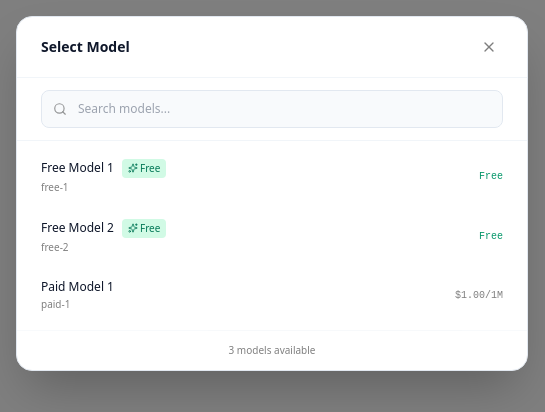
Test: ModelSelectorModal › should filter models based on search query
Type "Paid" into the field with placeholder "Search models..." at (272, 108), box [41, 90, 503, 128]
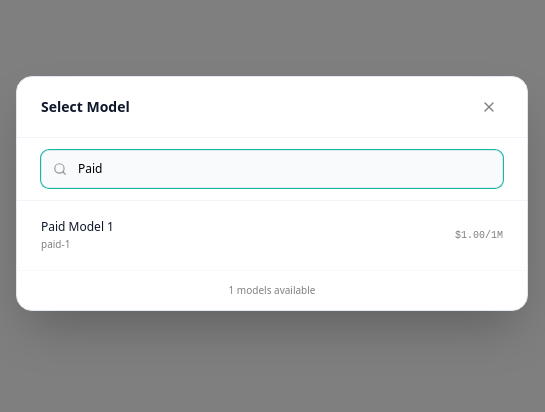
Expected: the text "Paid Model 1" is shown, [41, 218, 114, 234]
Now the button "Free Model 1" is gone
